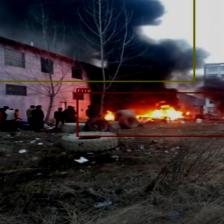fire: (76, 91, 224, 136)
smoke: (0, 0, 195, 82)
